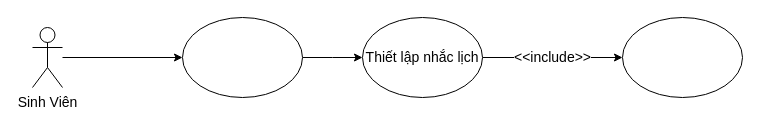
Image size: 760x129. Some labels were removed from this diagram. The centre of each missing label's shape, as x and y in pixels:
"Hệ thống thông báo lịch học" belongs at pixel 682 57.
"Đăng nhập" belongs at pixel 242 57.
